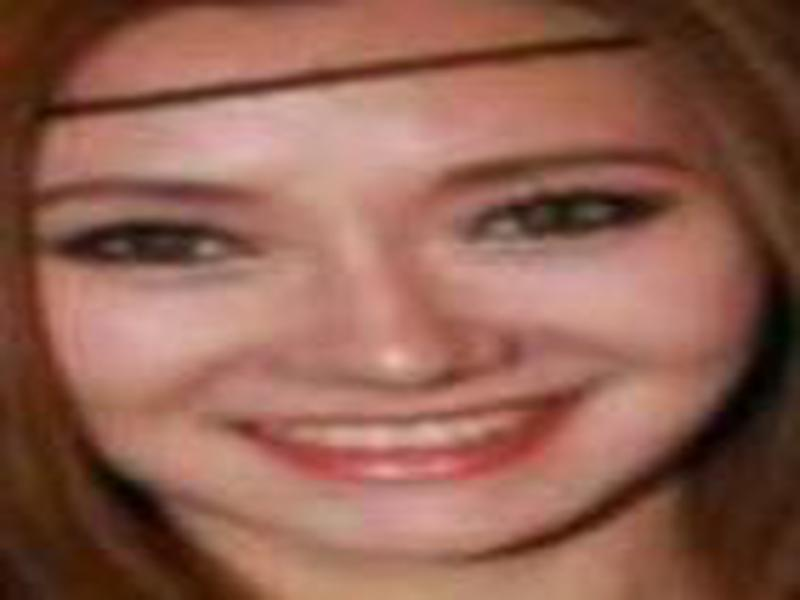without_mask: (31, 106, 748, 553)
